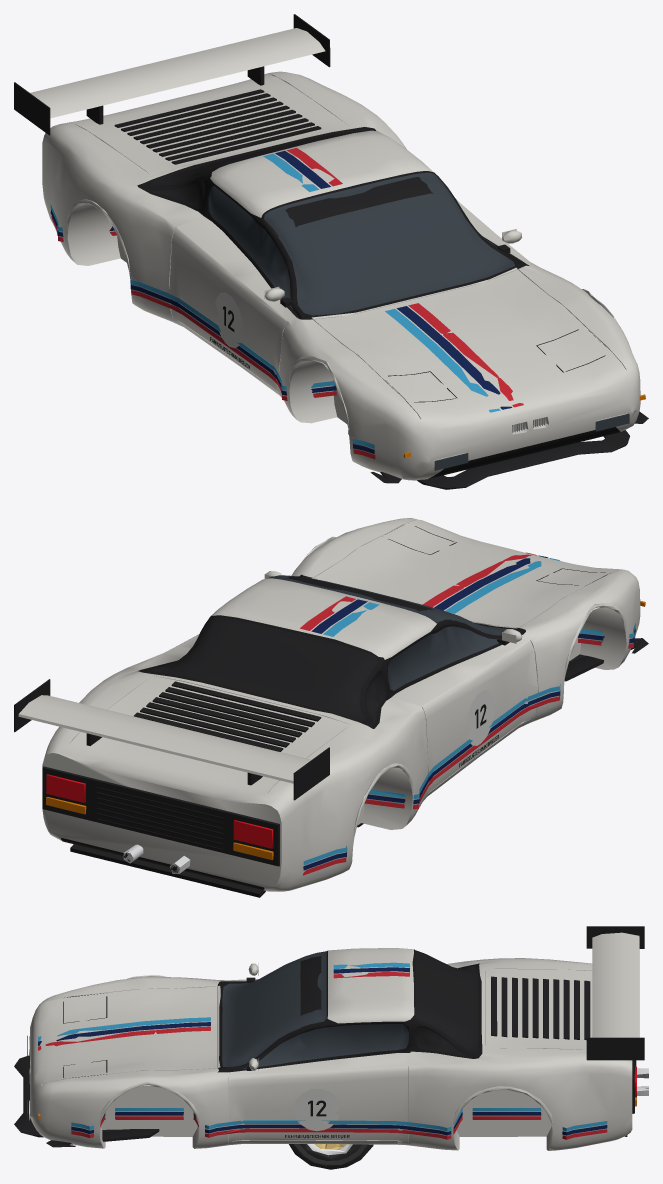
3 views of the same model, one above another, from view 1: azimuth 30°, elevation 25°; view 2: azimuth 150°, elevation 25°; view 3: azimuth 270°, elevation 25° (orthographic). The views are drawn at different scales.
Parts seen in each view (by area): view 1: body; view 2: body; view 3: body, wheel.
Boxes of the visible parts, <box> form: body: <box>14,14,648,489</box>; body: <box>14,518,648,897</box>; body: <box>14,926,648,1150</box>; wheel: <box>289,1144,373,1169</box>.
Bounding box in the file's own units: 1.99 × 1.48 × 4.6.
